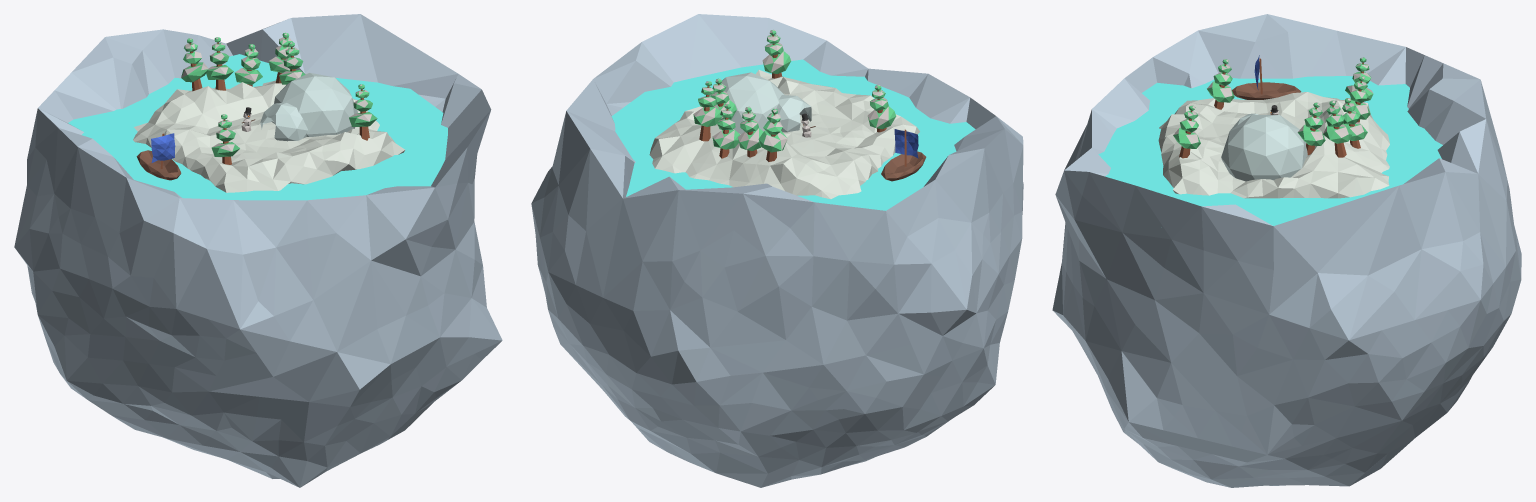
File: NorthPole.glb
3 views of the same model, side by side, from view 1: azimuth 30°, elevation 25°; view 2: azimuth 150°, elevation 25°; view 3: azimuth 270°, elevation 25° (orthographic).
Visible parts, largest first — view 1: Plane, Cube, Icosphere.001, Icosphere.002, Tree3.005, Tree3.004, Tree3.001, Icosphere.011, Tree3.003, Tree3.007, Plane.001, Tree3.002 (+1 smaller); view 2: Plane, Cube, Icosphere.001, Icosphere.002, Tree3.006, Tree3.005, Tree3.004, Tree3.007, Icosphere.011, Tree3.003, Tree3.001, Plane.001; view 3: Plane, Cube, Icosphere.001, Icosphere.011, Tree3.006, Tree3.004, Tree3.003, Tree3.002, Tree3.007, Tree3.001.
Boxes of the visible parts, bbox=[...] form: Plane: bbox=[14, 14, 502, 487]; Cube: bbox=[133, 73, 404, 192]; Icosphere.001: bbox=[271, 73, 357, 136]; Icosphere.002: bbox=[260, 102, 307, 141]; Tree3.005: bbox=[181, 38, 208, 91]; Tree3.004: bbox=[349, 84, 377, 140]; Tree3.001: bbox=[206, 37, 233, 90]; Icosphere.011: bbox=[136, 150, 181, 180]; Tree3.003: bbox=[211, 114, 239, 164]; Tree3.007: bbox=[234, 44, 262, 86]; Plane.001: bbox=[151, 133, 175, 162]; Tree3.002: bbox=[279, 42, 305, 84]; Plane: bbox=[531, 14, 1023, 487]; Cube: bbox=[649, 70, 919, 199]; Icosphere.001: bbox=[709, 72, 784, 134]; Icosphere.002: bbox=[776, 95, 811, 132]; Tree3.006: bbox=[693, 81, 721, 141]; Tree3.005: bbox=[758, 108, 787, 161]; Tree3.004: bbox=[762, 30, 790, 78]; Tree3.007: bbox=[712, 104, 739, 158]; Icosphere.011: bbox=[881, 151, 926, 181]; Tree3.003: bbox=[867, 85, 896, 132]; Tree3.001: bbox=[738, 106, 763, 157]; Plane.001: bbox=[894, 129, 918, 158]; Plane: bbox=[1052, 14, 1521, 487]; Cube: bbox=[1158, 92, 1389, 198]; Icosphere.001: bbox=[1221, 115, 1307, 181]; Icosphere.011: bbox=[1232, 82, 1301, 99]; Tree3.006: bbox=[1323, 100, 1352, 157]; Tree3.004: bbox=[1173, 105, 1200, 158]; Tree3.003: bbox=[1207, 59, 1234, 109]; Tree3.002: bbox=[1297, 102, 1325, 155]; Tree3.007: bbox=[1342, 98, 1367, 148]; Tree3.001: bbox=[1343, 76, 1370, 122].
Size of the model in its own units: 284 by 245 by 265.
